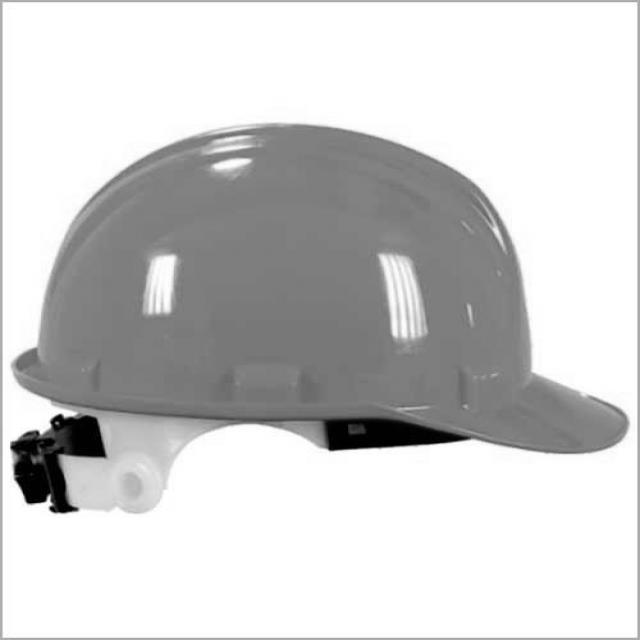safety_helmet: (13, 124, 630, 511)
